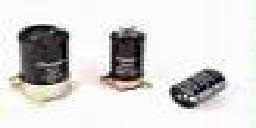Electrolytic-Capacitor: (13, 21, 74, 98), (101, 20, 152, 95), (167, 57, 229, 115)
